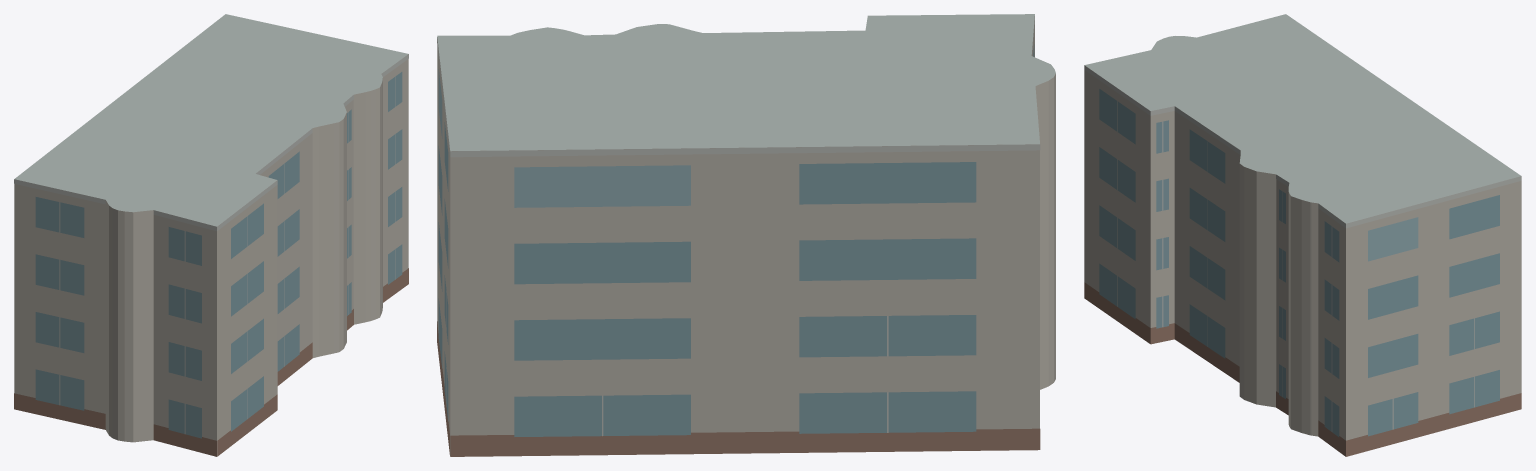
Rendered from survey-upis-32591921.glb.
3 renders of one model, left to right at view 1: azimuth 30°, elevation 25°; view 2: azimuth 150°, elevation 25°; view 3: azimuth 270°, elevation 25°, orthographic. The views are drawn at different scales.
Parts seen in each view (by area): view 1: survey-upis-32591921.tmp; view 2: survey-upis-32591921.tmp; view 3: survey-upis-32591921.tmp.
Part boxes in pixels (left/top/right/bottom): survey-upis-32591921.tmp: left=14, top=14, right=408, bottom=456; survey-upis-32591921.tmp: left=437, top=14, right=1055, bottom=456; survey-upis-32591921.tmp: left=1084, top=14, right=1521, bottom=456.
Bounding box in the file's own units: 23.35 × 12.1 × 20.57.
